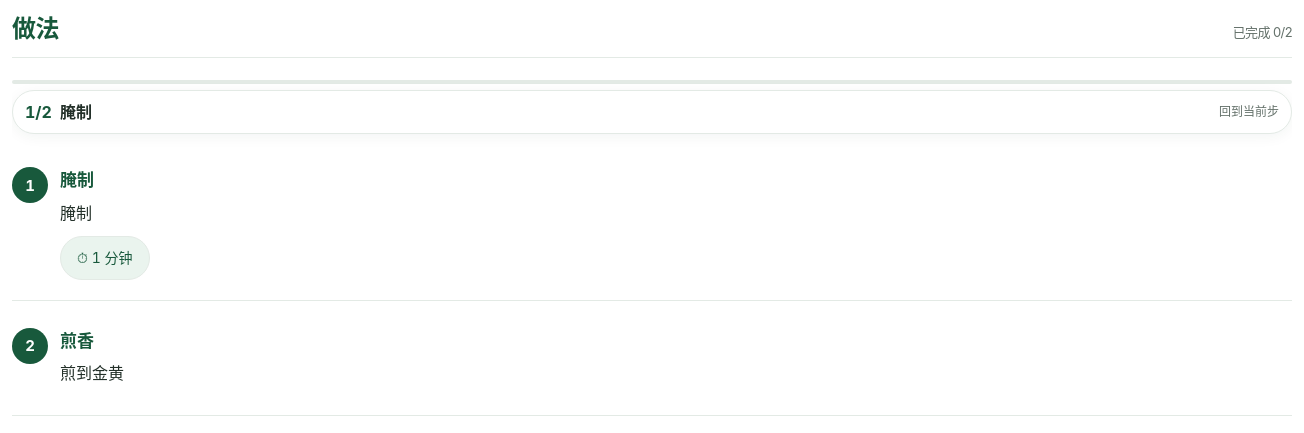
Test: StepList · 到点提醒 › 点计时后按钮变成倒计时
Click the button "⏱ 1 分钟": (105, 258) x1=60 y1=236 x2=150 y2=280
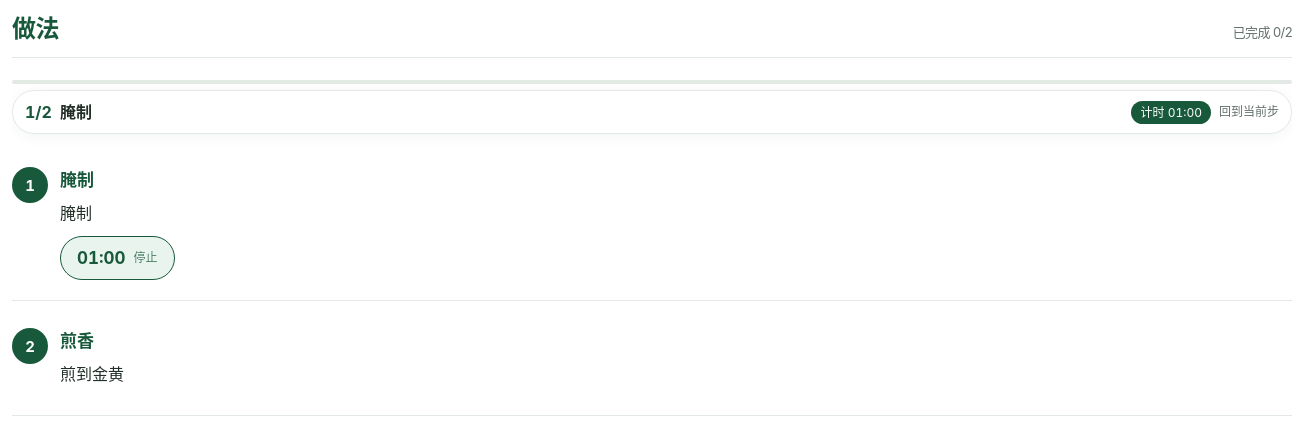
Expected: the button with aria-label "停止计时" is shown, x1=60 y1=236 x2=174 y2=280
